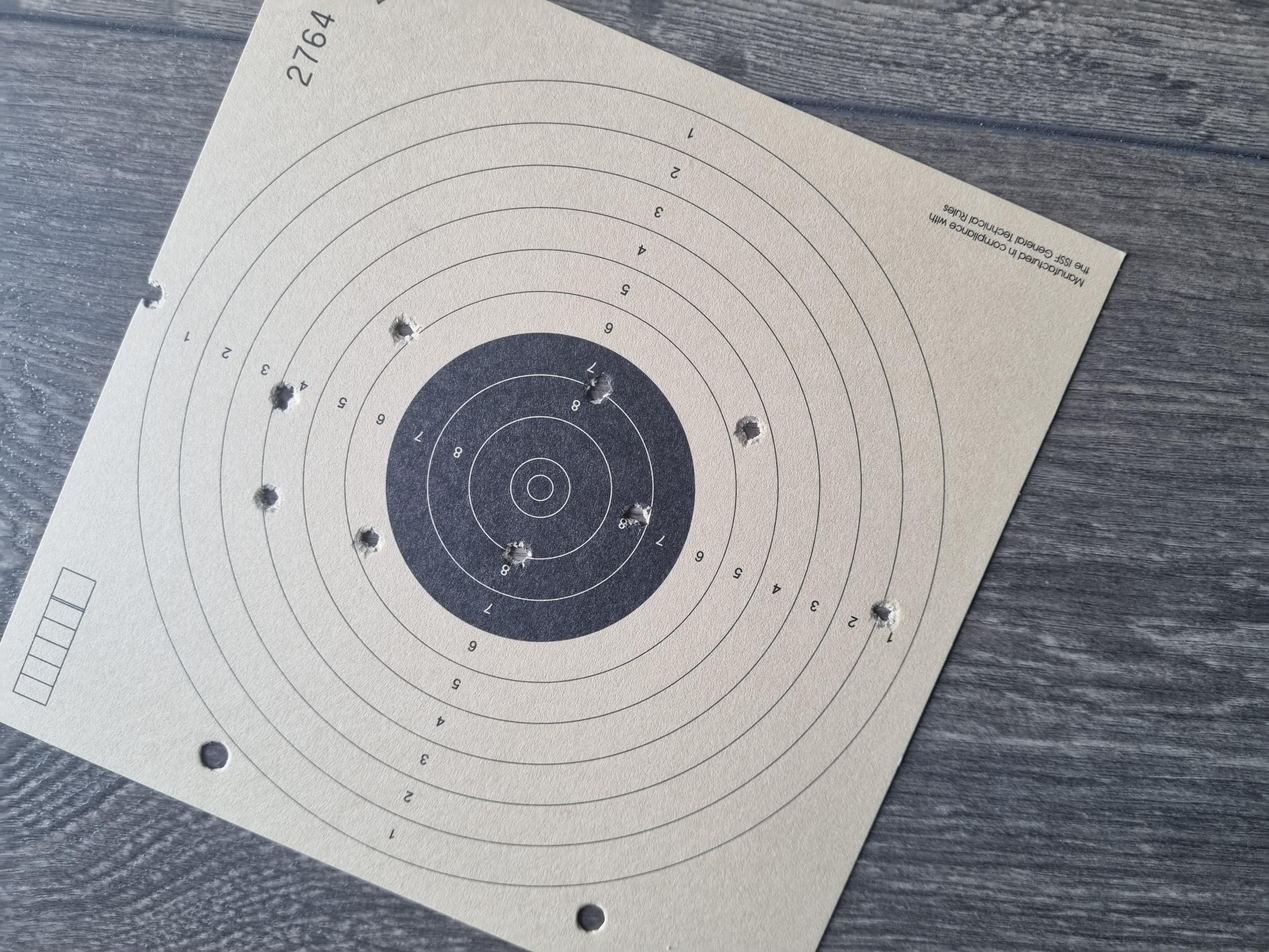hole: (801, 289, 858, 317), (714, 198, 764, 229), (671, 549, 718, 576), (524, 262, 572, 287), (560, 463, 603, 489), (507, 375, 550, 401), (857, 105, 906, 127), (428, 651, 471, 676), (582, 187, 626, 209), (725, 437, 752, 463), (753, 441, 773, 463)
